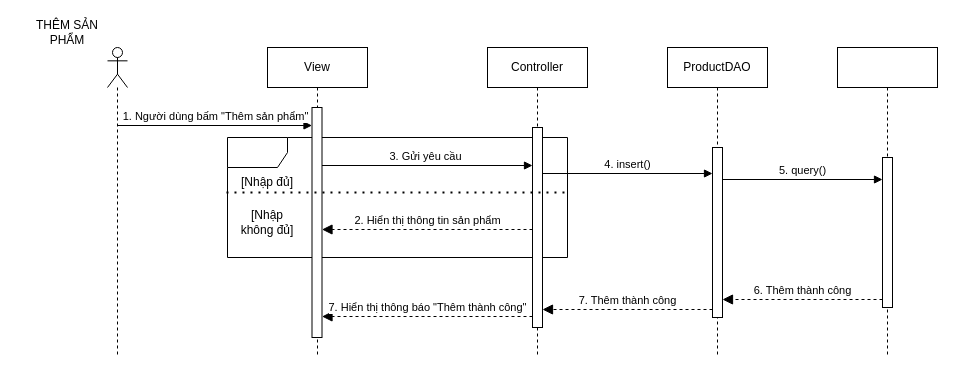
Image size: 955x375. Some labels were removed from this diagram. The box of each missing label's shape, as (x1, y1, x2, y2) in pixels:
alt: (226, 136, 568, 258)
Database: (836, 46, 938, 358)
